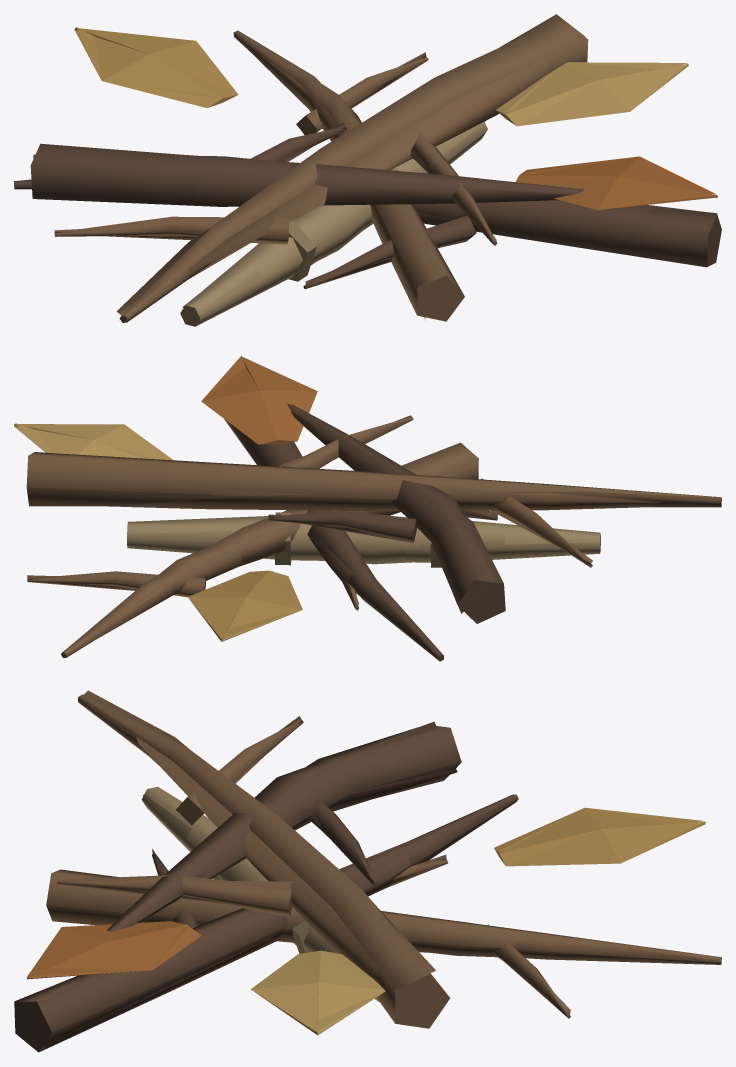
The model's file is twig_pile_b.glb.
3 renders of one model, top to bottom at view 1: azimuth 30°, elevation 25°; view 2: azimuth 150°, elevation 25°; view 3: azimuth 270°, elevation 25°, orthographic. The views are drawn at different scales.
Parts seen in each view (by area): view 1: stem, body__far, leaf_nl; view 2: stem, body__far, leaf_nl; view 3: stem, body__far, leaf_nl.
Part boxes in pixels (left/top/right/bottom): stem: left=14, top=27, right=715, bottom=326; body__far: left=14, top=14, right=721, bottom=326; leaf_nl: left=74, top=28, right=717, bottom=210; stem: left=27, top=404, right=721, bottom=661; body__far: left=15, top=355, right=721, bottom=660; leaf_nl: left=14, top=357, right=317, bottom=641; stem: left=15, top=694, right=721, bottom=1052; body__far: left=14, top=690, right=721, bottom=1052; leaf_nl: left=27, top=808, right=705, bottom=1035.
Bounding box in the file's own units: 5.3 × 0.7507 × 4.65.
